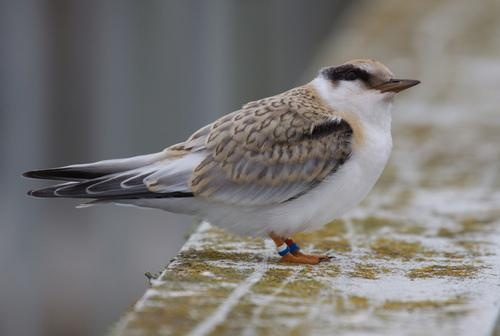bird: (24, 57, 416, 259)
